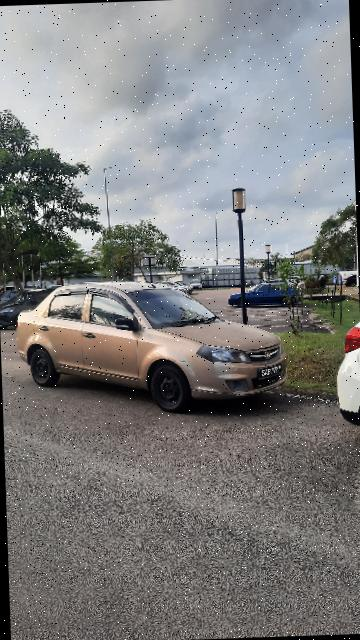License_Plate: (256, 362, 288, 382)
car: (13, 272, 294, 422)
